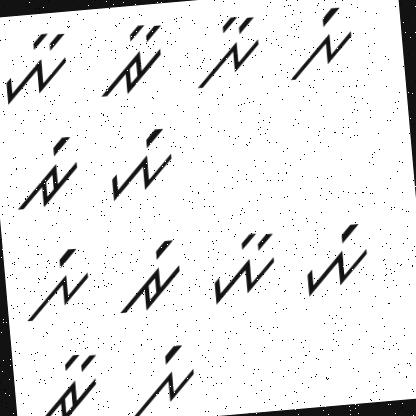lan: (188, 11, 268, 94)
lang: (275, 1, 364, 90), (15, 242, 97, 328), (121, 341, 203, 416)
ran: (89, 20, 171, 104), (25, 344, 104, 416)
rang: (9, 130, 84, 219), (113, 235, 186, 319)
yan: (0, 22, 78, 115), (202, 228, 283, 309)
yang: (99, 121, 185, 204), (296, 219, 372, 300)
